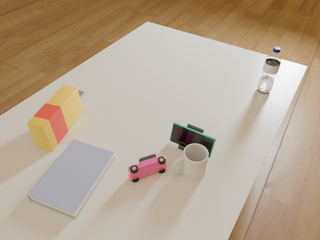book: (27, 139, 115, 219)
bottle: (257, 47, 281, 93)
box: (27, 85, 83, 151)
cup: (173, 143, 209, 180)
phone: (170, 122, 216, 158)
toy_car: (128, 154, 166, 182)
